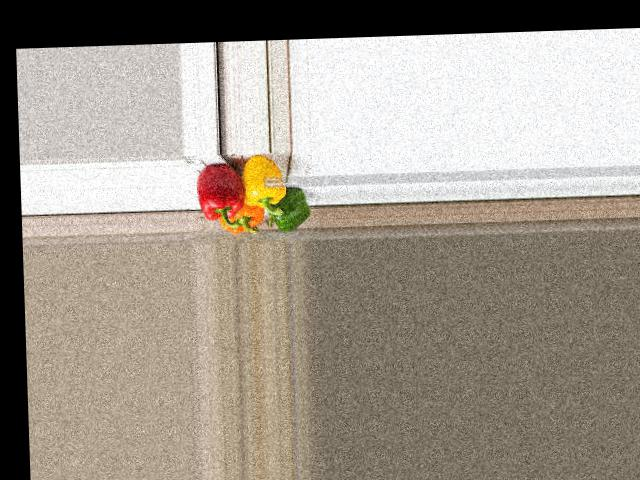bell_pepper: (218, 201, 266, 235)
